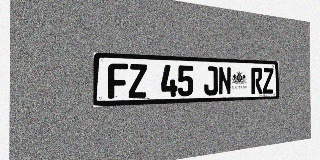4: (161, 65, 177, 97)
5: (178, 65, 193, 96)
F: (108, 63, 128, 99)
J: (204, 66, 218, 96)
N: (218, 66, 231, 95)
R: (251, 67, 263, 94)
Z: (129, 64, 147, 98), (263, 68, 274, 94)
